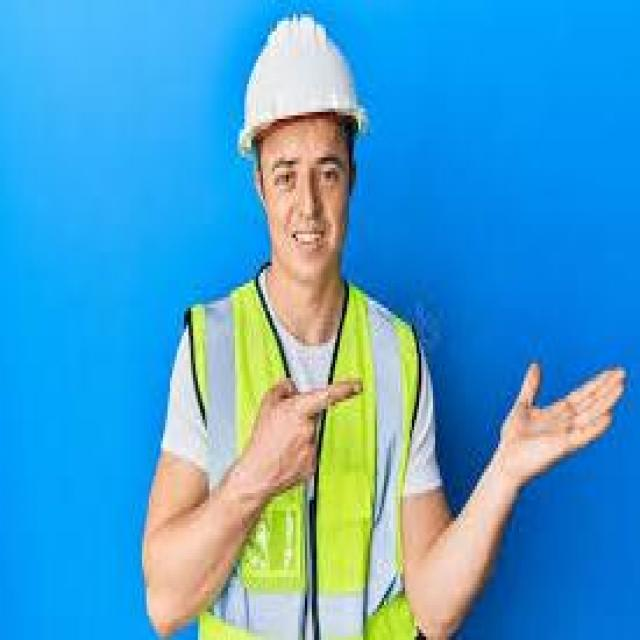Reflective-Jacket: (177, 284, 421, 636)
Safety-Helmet: (238, 14, 366, 150)
